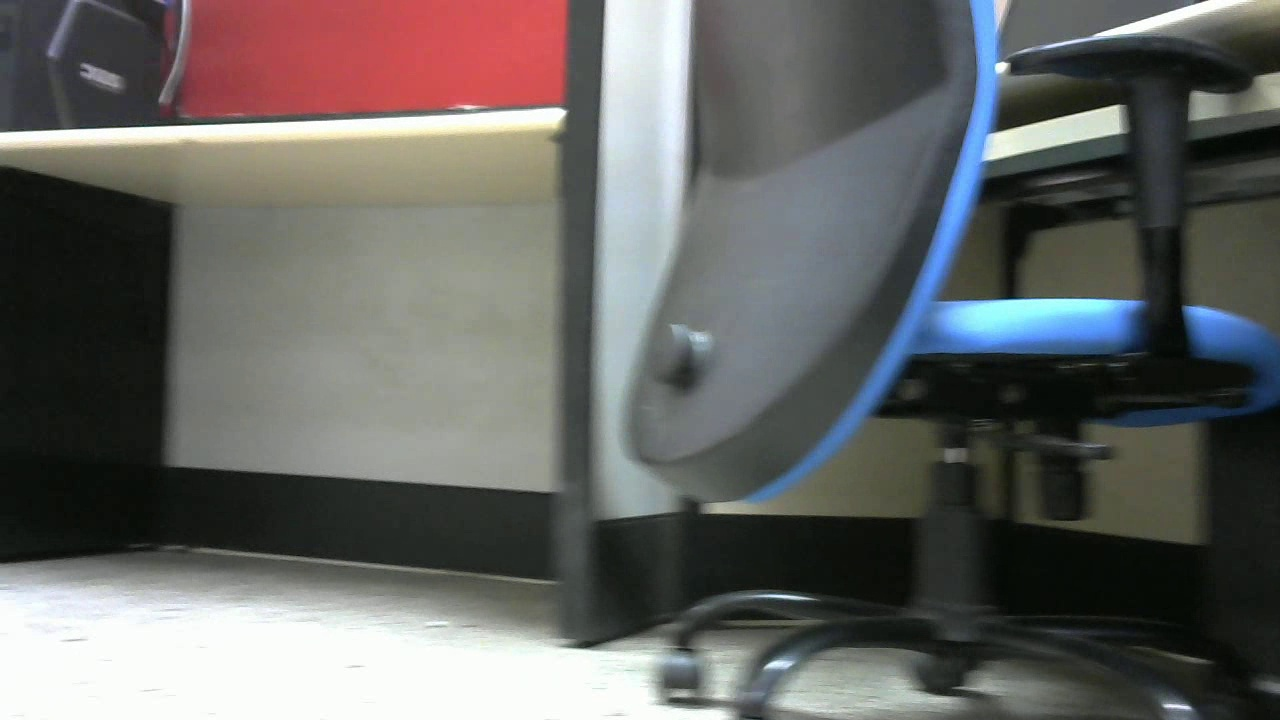chair: (632, 1, 1280, 720)
